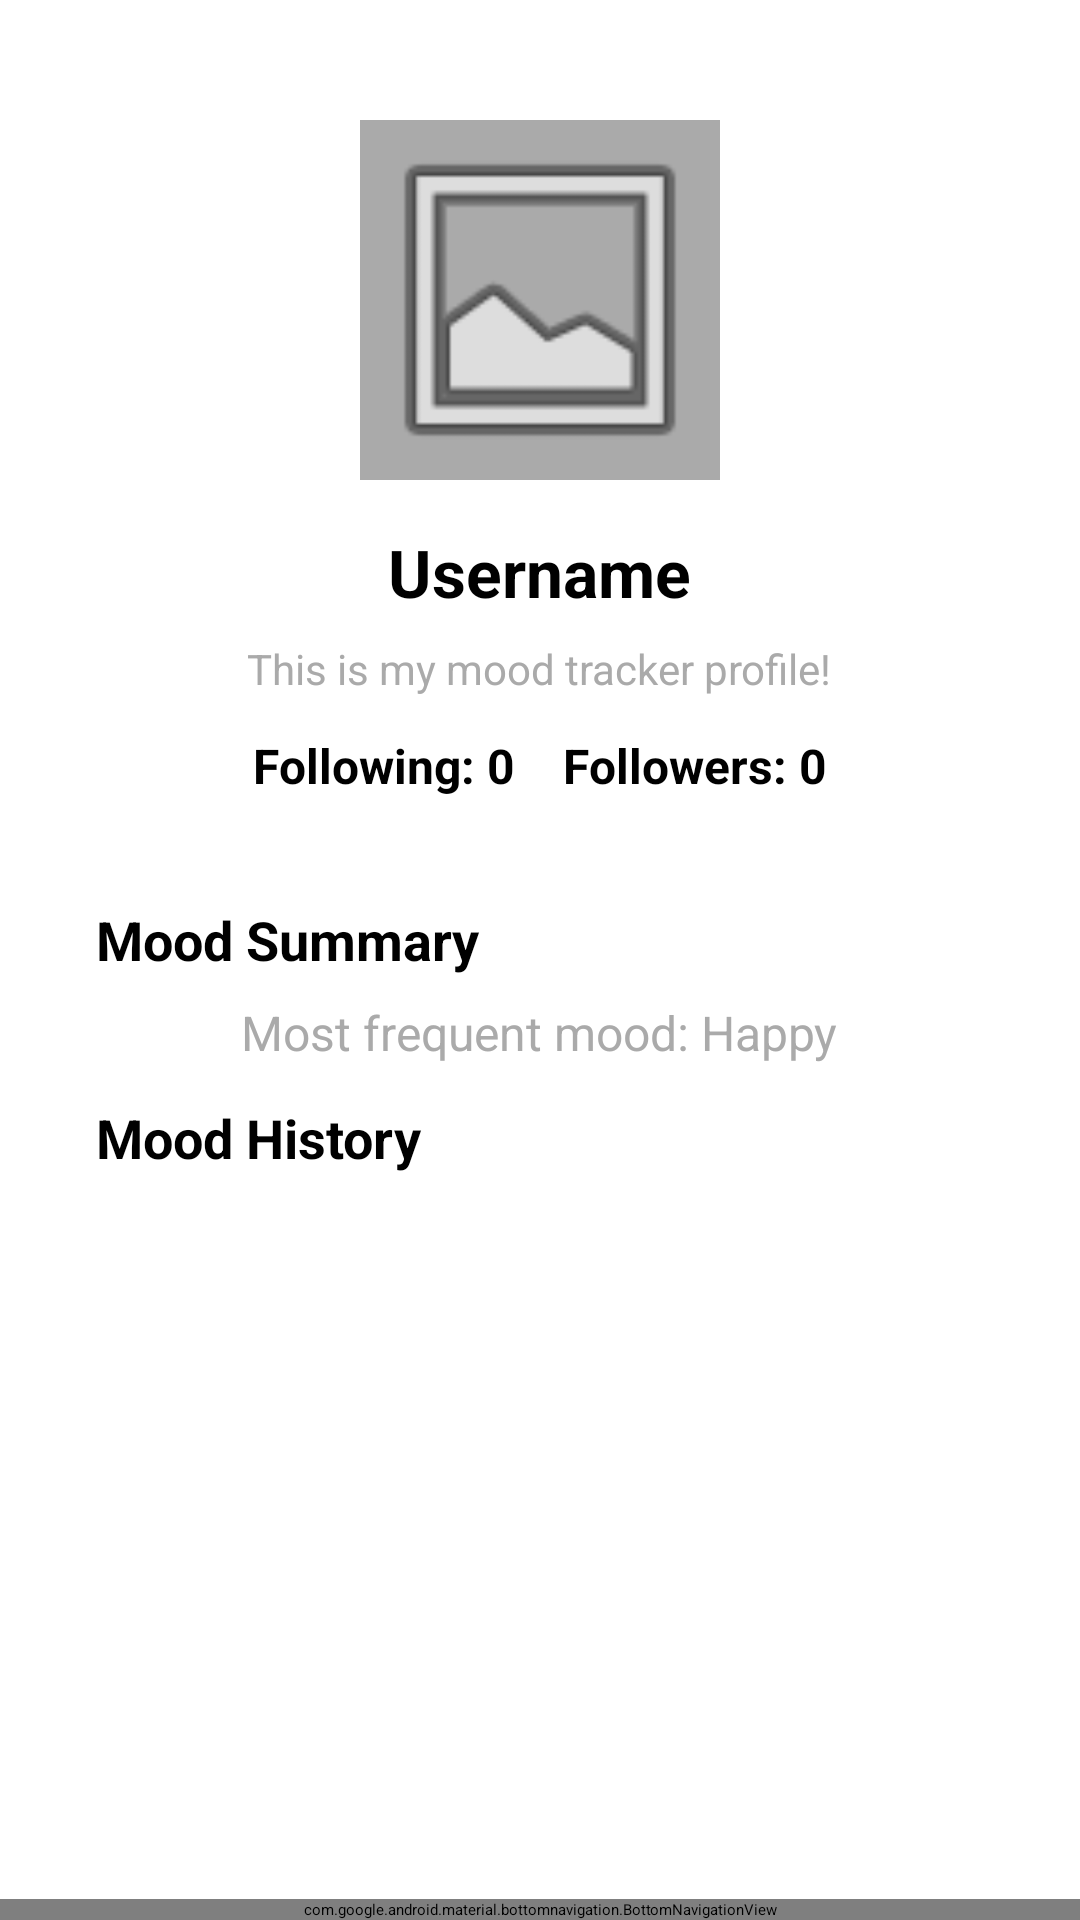

Icons on this 1080w x 1920h Android screen, each with the point to tap as (x,y):
gallery: (540,300)
